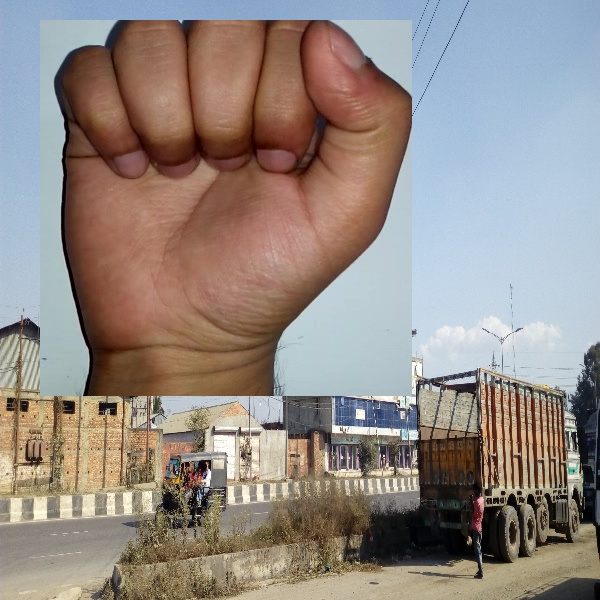A: (40, 20, 412, 396)
